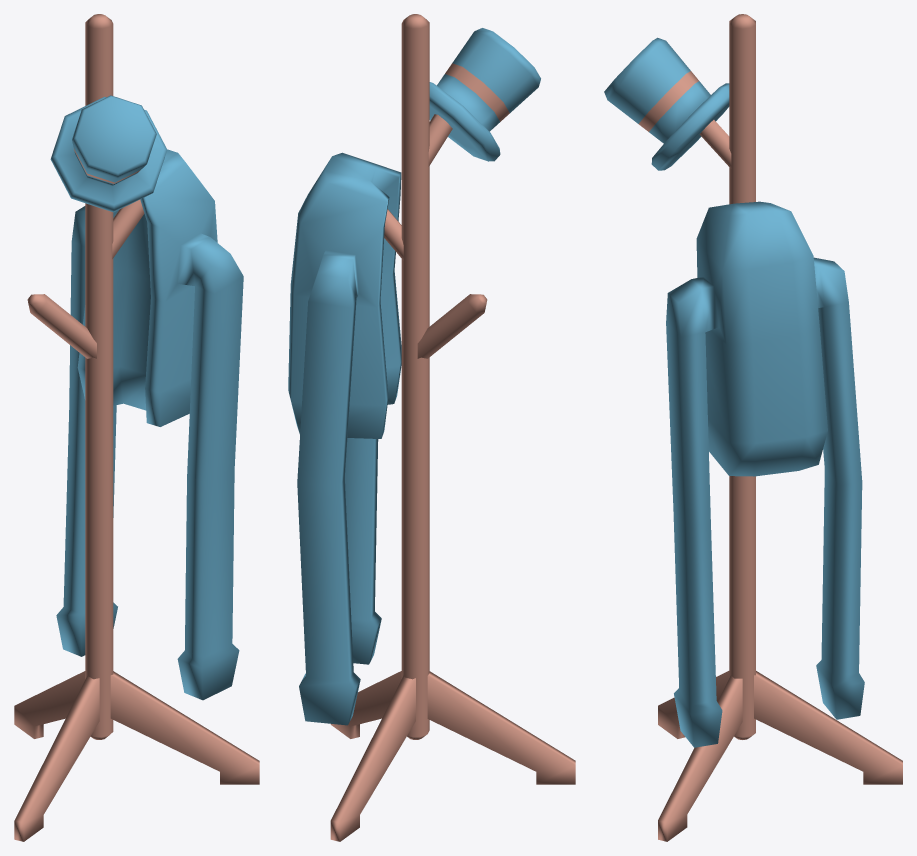
The model's file is coatrack_01.glb.
3 views of the same model, side by side, from view 1: azimuth 30°, elevation 25°; view 2: azimuth 150°, elevation 25°; view 3: azimuth 270°, elevation 25° (orthographic).
Visible parts, largest first — view 1: mesh_coatrack_01; view 2: mesh_coatrack_01; view 3: mesh_coatrack_01.
Part boxes in pixels (box(x1,y1,x2,y2)): mesh_coatrack_01: box(14, 14, 259, 841); mesh_coatrack_01: box(288, 14, 575, 841); mesh_coatrack_01: box(604, 14, 902, 841).
Bounding box in the file's own units: 0.8075 × 2.41 × 0.8528.
